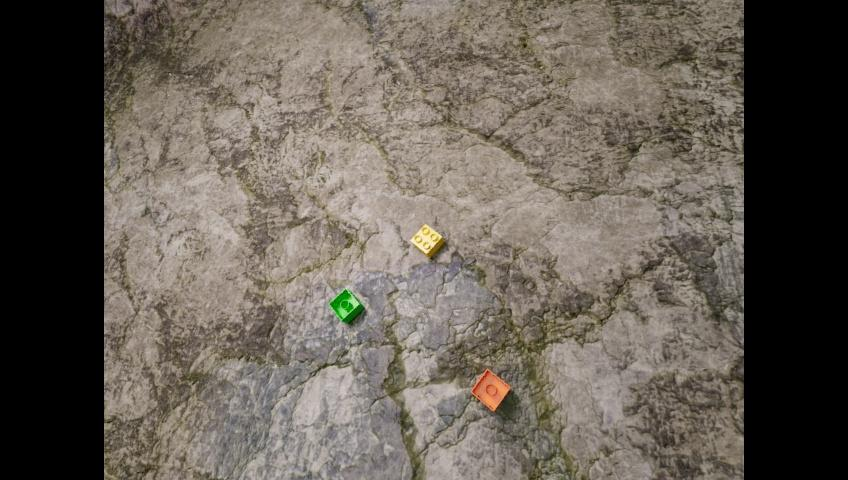2x2_green: (328, 287, 363, 323)
2x2_orange: (471, 368, 509, 411)
2x2_yellow: (410, 224, 443, 258)
